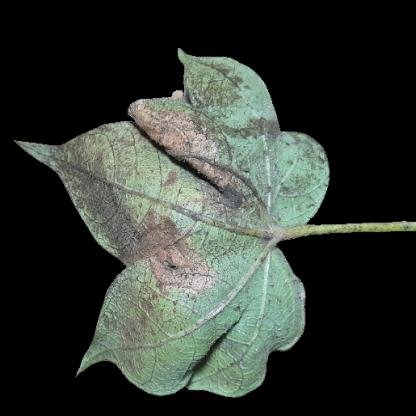curl_stage2: (227, 263, 298, 352), (152, 335, 260, 389)
sooty: (88, 157, 205, 250), (168, 104, 276, 158)
